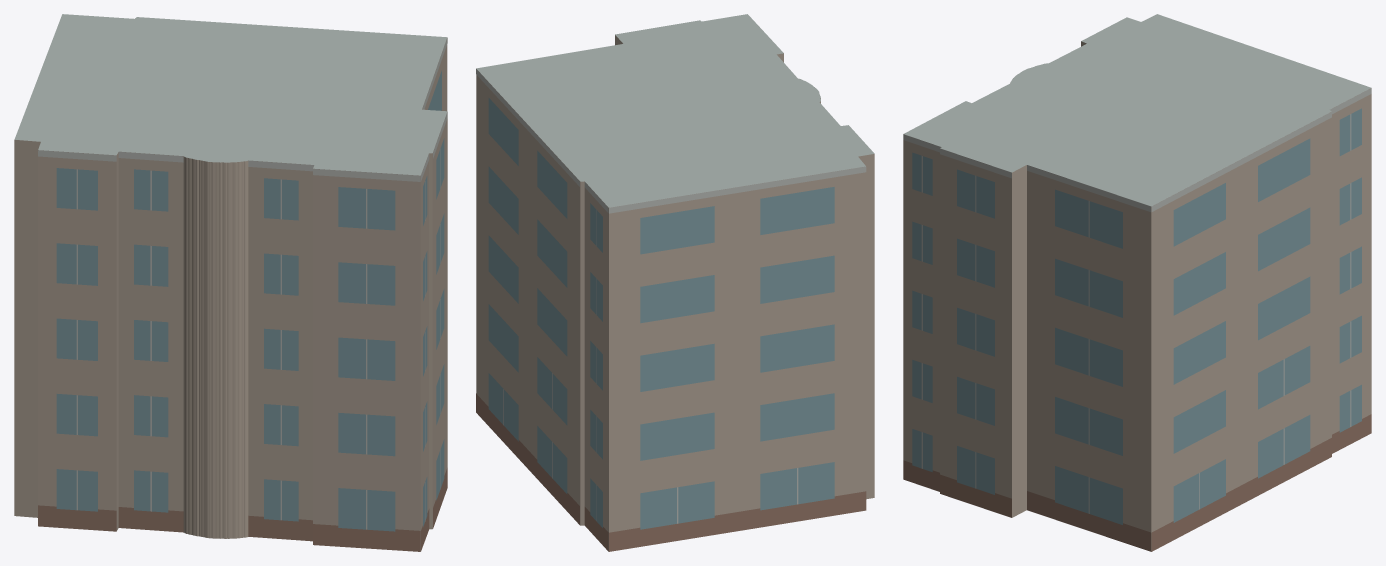
Rendered from survey-upis-32925300.glb.
3 renders of one model, left to right at view 1: azimuth 30°, elevation 25°; view 2: azimuth 150°, elevation 25°; view 3: azimuth 270°, elevation 25°, orthographic. The views are drawn at different scales.
Visible parts, largest first — view 1: survey-upis-32925300.tmp; view 2: survey-upis-32925300.tmp; view 3: survey-upis-32925300.tmp.
Boxes of the visible parts, left/top/right/bottom form: survey-upis-32925300.tmp: left=14, top=14, right=447, bottom=551; survey-upis-32925300.tmp: left=476, top=14, right=874, bottom=551; survey-upis-32925300.tmp: left=903, top=14, right=1371, bottom=551.
Size of the model in its own units: 17.1 by 14.3 by 17.58.
